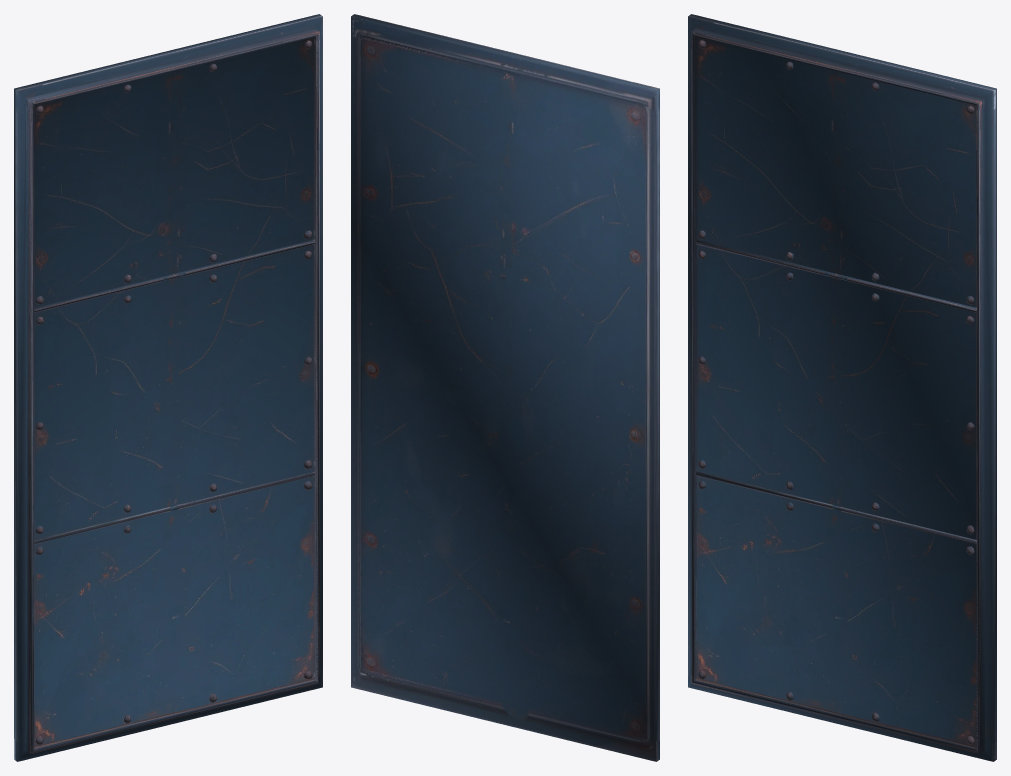
File: wall-blue.glb
3 renders of one model, left to right at view 1: azimuth 30°, elevation 25°; view 2: azimuth 150°, elevation 25°; view 3: azimuth 330°, elevation 25°, orthographic.
Parts seen in each view (by area): view 1: Meshy_Mesh_0; view 2: Meshy_Mesh_0; view 3: Meshy_Mesh_0.
Part boxes in pixels (left/top/right/bottom): Meshy_Mesh_0: left=14, top=14, right=322, bottom=761; Meshy_Mesh_0: left=351, top=14, right=659, bottom=761; Meshy_Mesh_0: left=688, top=14, right=996, bottom=761.
Size of the model in its own units: 0.9531 by 2 by 0.0503.
1 material, 1 textured.
